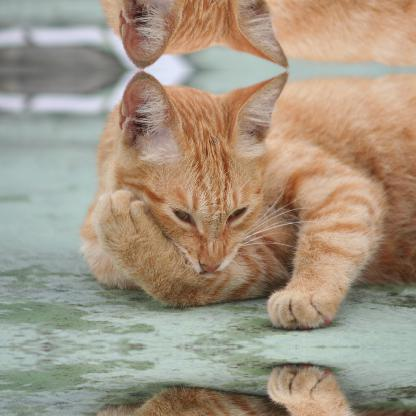Cat: (72, 69, 414, 329), (72, 0, 415, 70), (72, 363, 415, 415)
